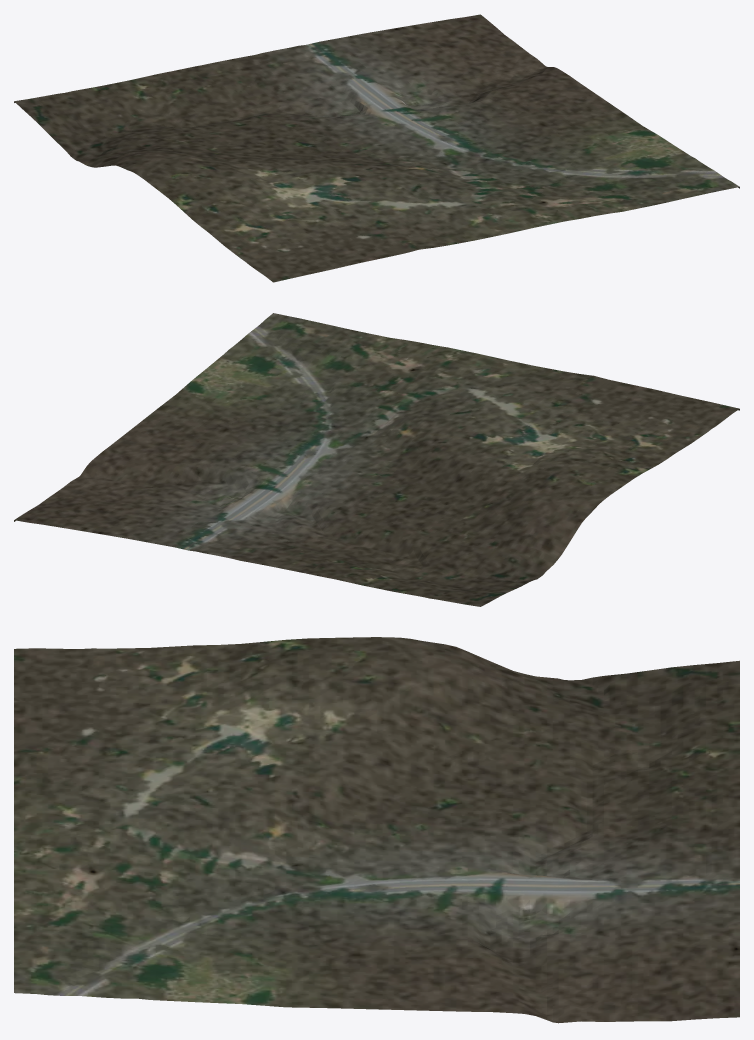
The picture shows the model from 3 angles, top to bottom: view 1: azimuth 30°, elevation 25°; view 2: azimuth 150°, elevation 25°; view 3: azimuth 270°, elevation 25°; orthographic projection. The views are drawn at different scales.
Bounding box in the file's own units: 250 × 26.16 × 241.
Materials: 1 (1 with a texture image).
